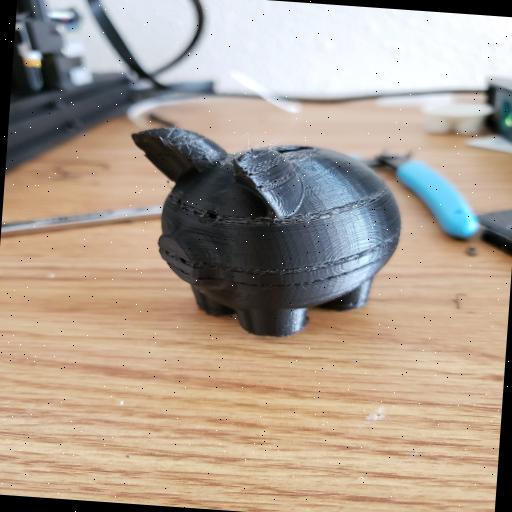cracks: (122, 232, 378, 304)
